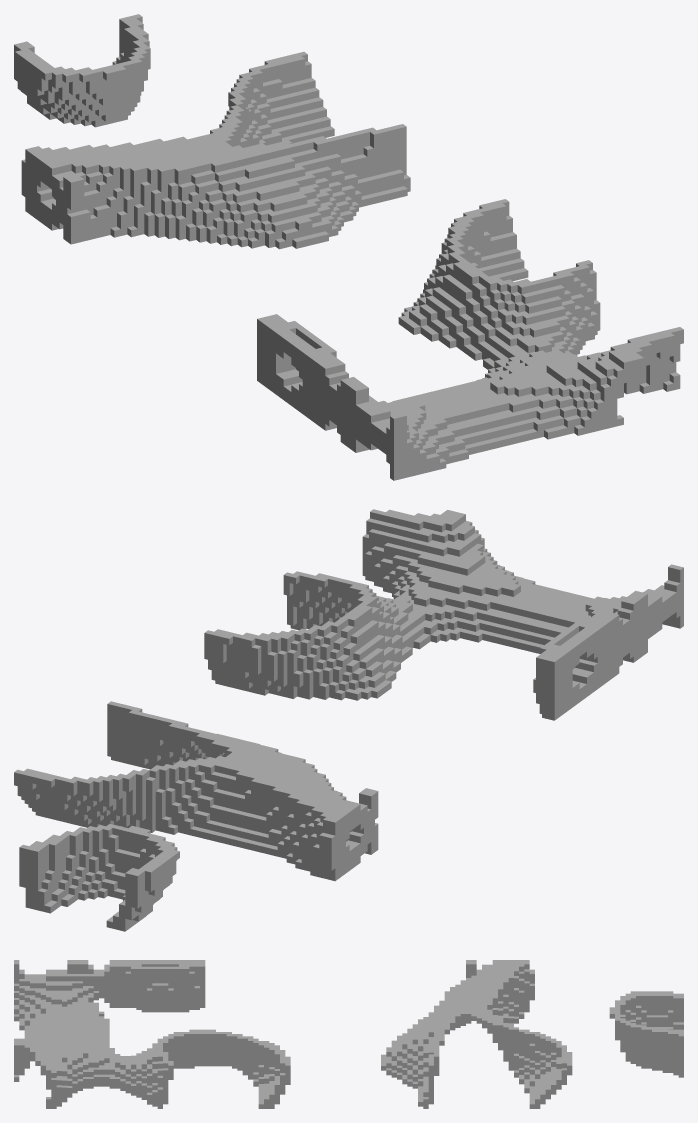
Rendered from church6-13.obj.
The picture shows the model from 3 angles, top to bottom: view 1: azimuth 30°, elevation 25°; view 2: azimuth 150°, elevation 25°; view 3: azimuth 270°, elevation 25°; orthographic projection. The views are drawn at different scales.
Parts seen in each view (by area): view 1: church6-13; view 2: church6-13; view 3: church6-13.
Part boxes in pixels (box(x1,y1,x2,y2)): church6-13: box(14, 14, 683, 480); church6-13: box(14, 509, 683, 931); church6-13: box(14, 960, 683, 1108).
Size of the model in its own units: 47 by 9 by 126.
Materials: 1 (1 with a texture image).
